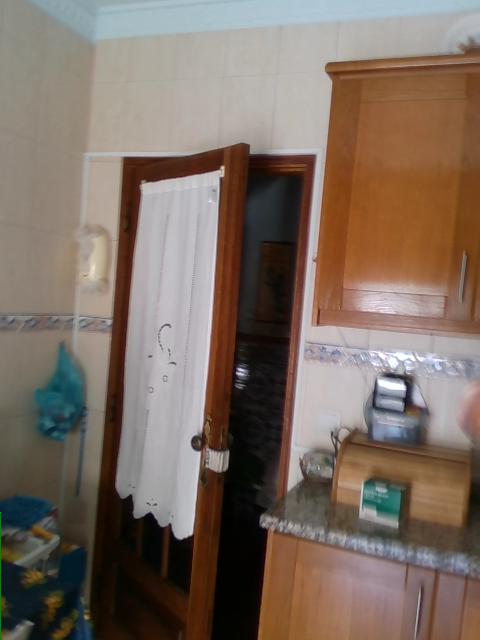semi_door: (88, 139, 318, 639)
